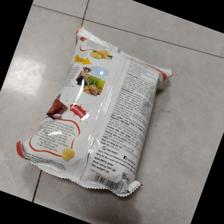Lays: (15, 27, 173, 202)
